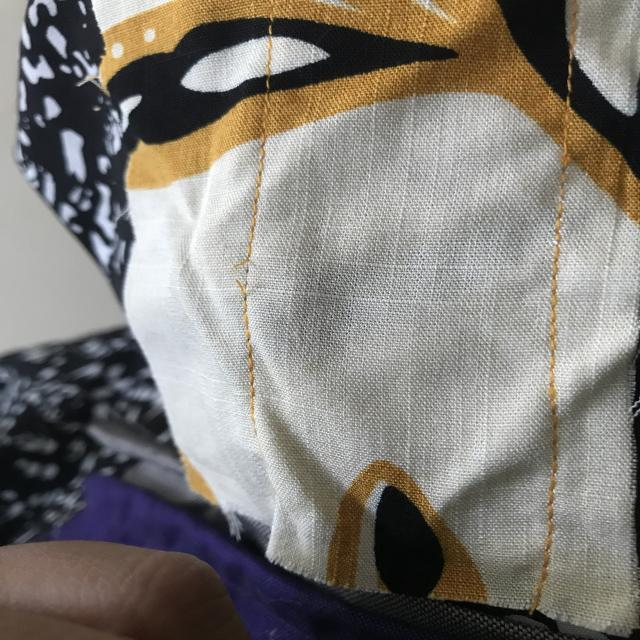broken: (226, 250, 264, 305)
